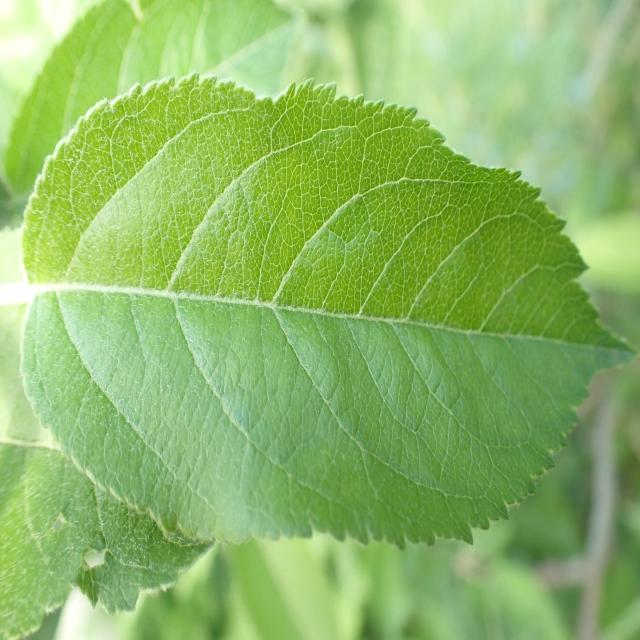healthy: (22, 71, 638, 553), (0, 225, 216, 640), (1, 0, 323, 214)
